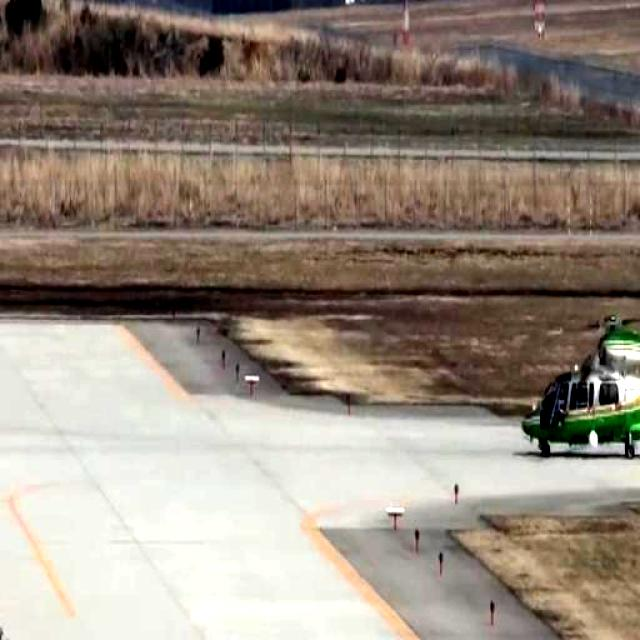drone: (514, 285, 640, 466)
